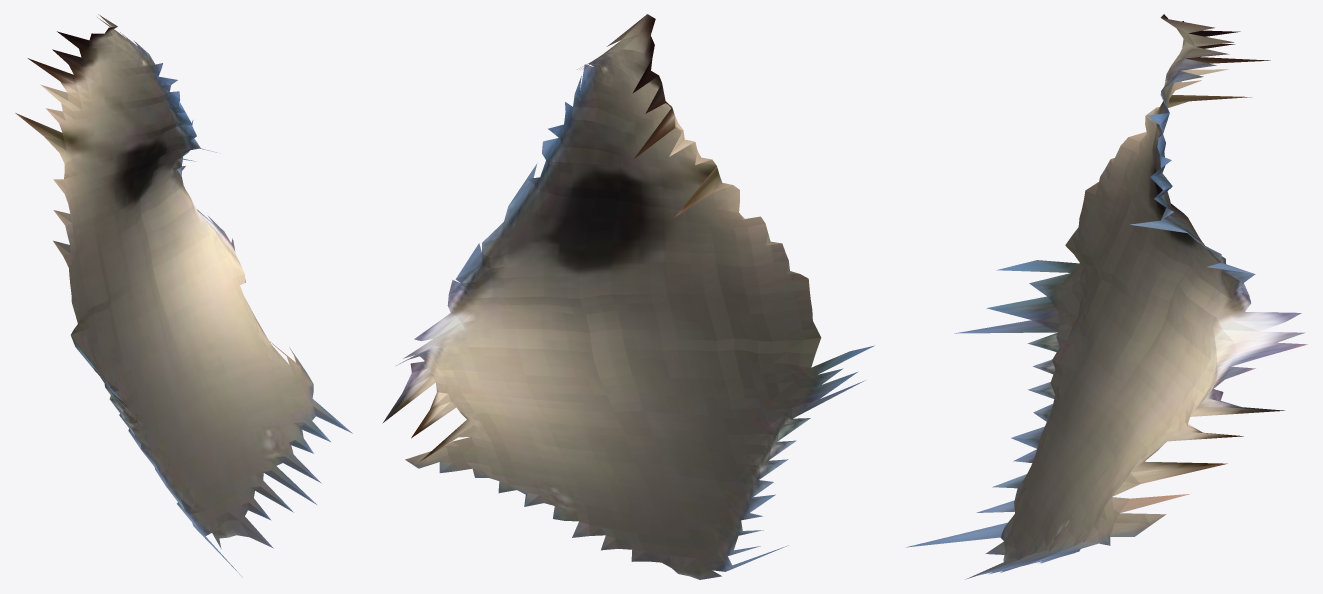
Rendered from observed-surface.glb.
3 views of the same model, side by side, from view 1: azimuth 30°, elevation 25°; view 2: azimuth 150°, elevation 25°; view 3: azimuth 270°, elevation 25° (orthographic). The views are drawn at different scales.
Parts seen in each view (by area): view 1: geometry_0; view 2: geometry_0; view 3: geometry_0.
Boxes of the visible parts, bbox=[...] form: geometry_0: bbox=[15, 14, 352, 577]; geometry_0: bbox=[382, 14, 874, 579]; geometry_0: bbox=[905, 14, 1307, 579].
Size of the model in its own units: 0.3144 by 0.5296 by 0.3693.
Materials: 1 (1 with a texture image).
